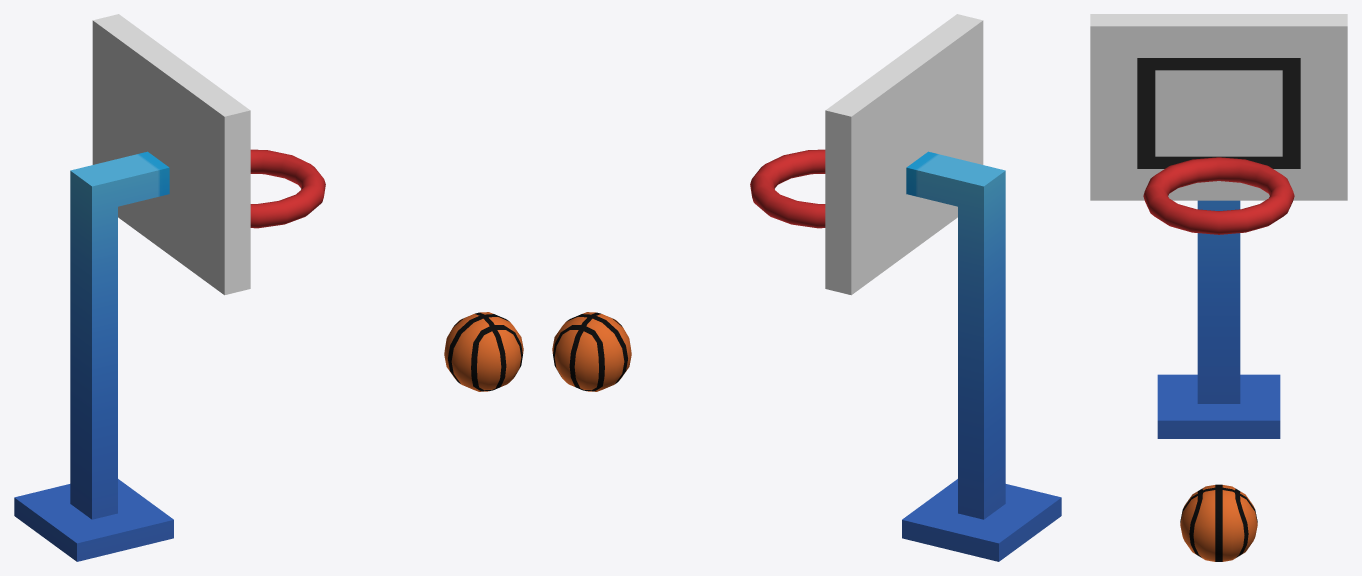
The model's file is Basketball.fbx.
3 renders of one model, left to right at view 1: azimuth 30°, elevation 25°; view 2: azimuth 150°, elevation 25°; view 3: azimuth 270°, elevation 25°, orthographic. The views are drawn at different scales.
Visible parts, largest first — view 1: Panel, Body, Basketball, Hoop; view 2: Panel, Body, Basketball, Hoop; view 3: Panel, Body, Hoop, Basketball.
Boxes of the visible parts, x1,y1,x2,y2 form: Panel: [92, 14, 250, 295]; Body: [14, 151, 173, 561]; Basketball: [444, 312, 523, 391]; Hoop: [250, 149, 325, 228]; Panel: [825, 14, 983, 295]; Body: [902, 151, 1061, 561]; Basketball: [552, 312, 631, 391]; Hoop: [750, 149, 825, 228]; Panel: [1090, 14, 1347, 200]; Body: [1157, 200, 1280, 438]; Hoop: [1143, 157, 1294, 234]; Basketball: [1180, 484, 1257, 561].
Bounding box in the file's own units: 11.5 × 10.3 × 5.55.
